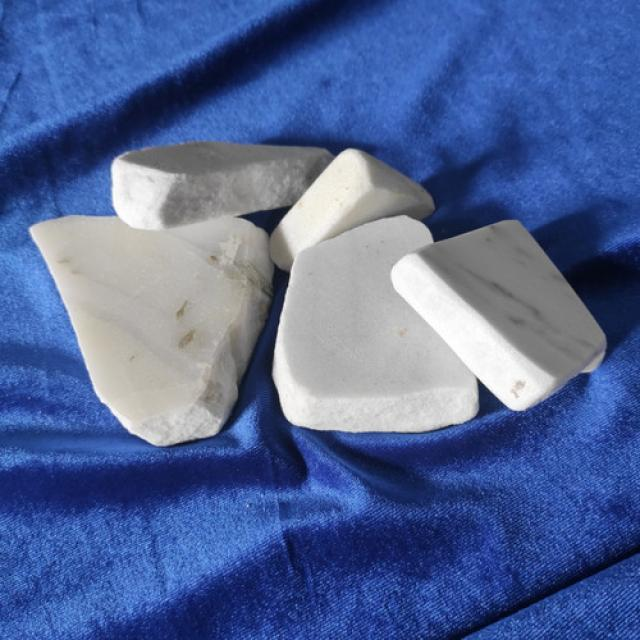Pecahan Agregat: (49, 117, 605, 481)
